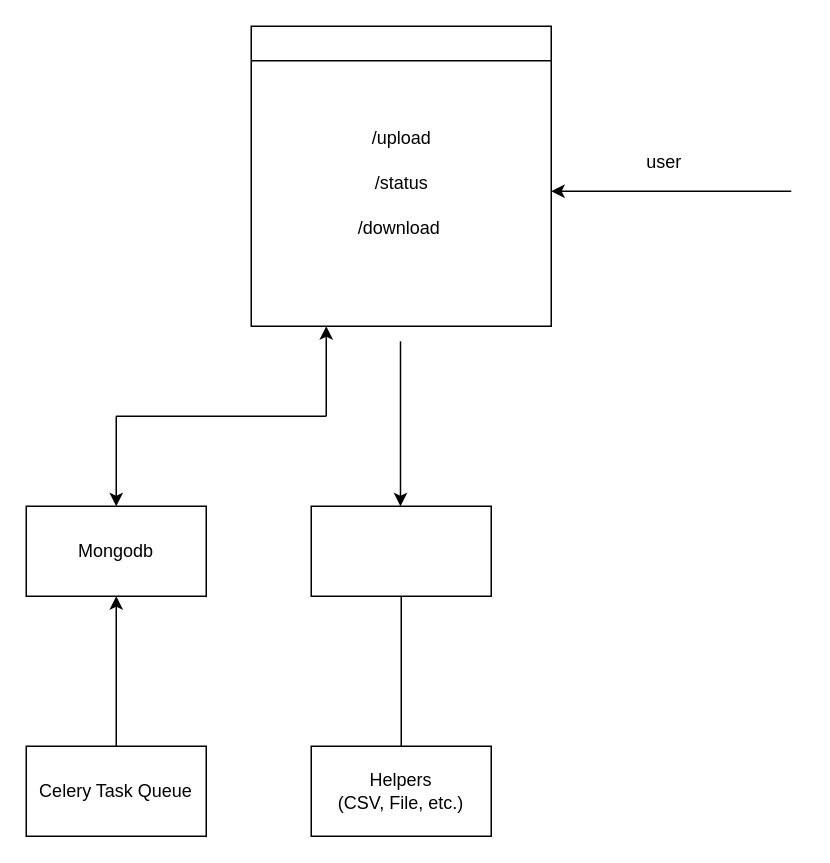
This 830x863 diagram has some shape labels left out. The box of each missing label's shape, as (x1, y1, x2, y2) in pixels:
Celery Worker: (310, 505, 491, 596)
fastapi app: (250, 25, 551, 326)
